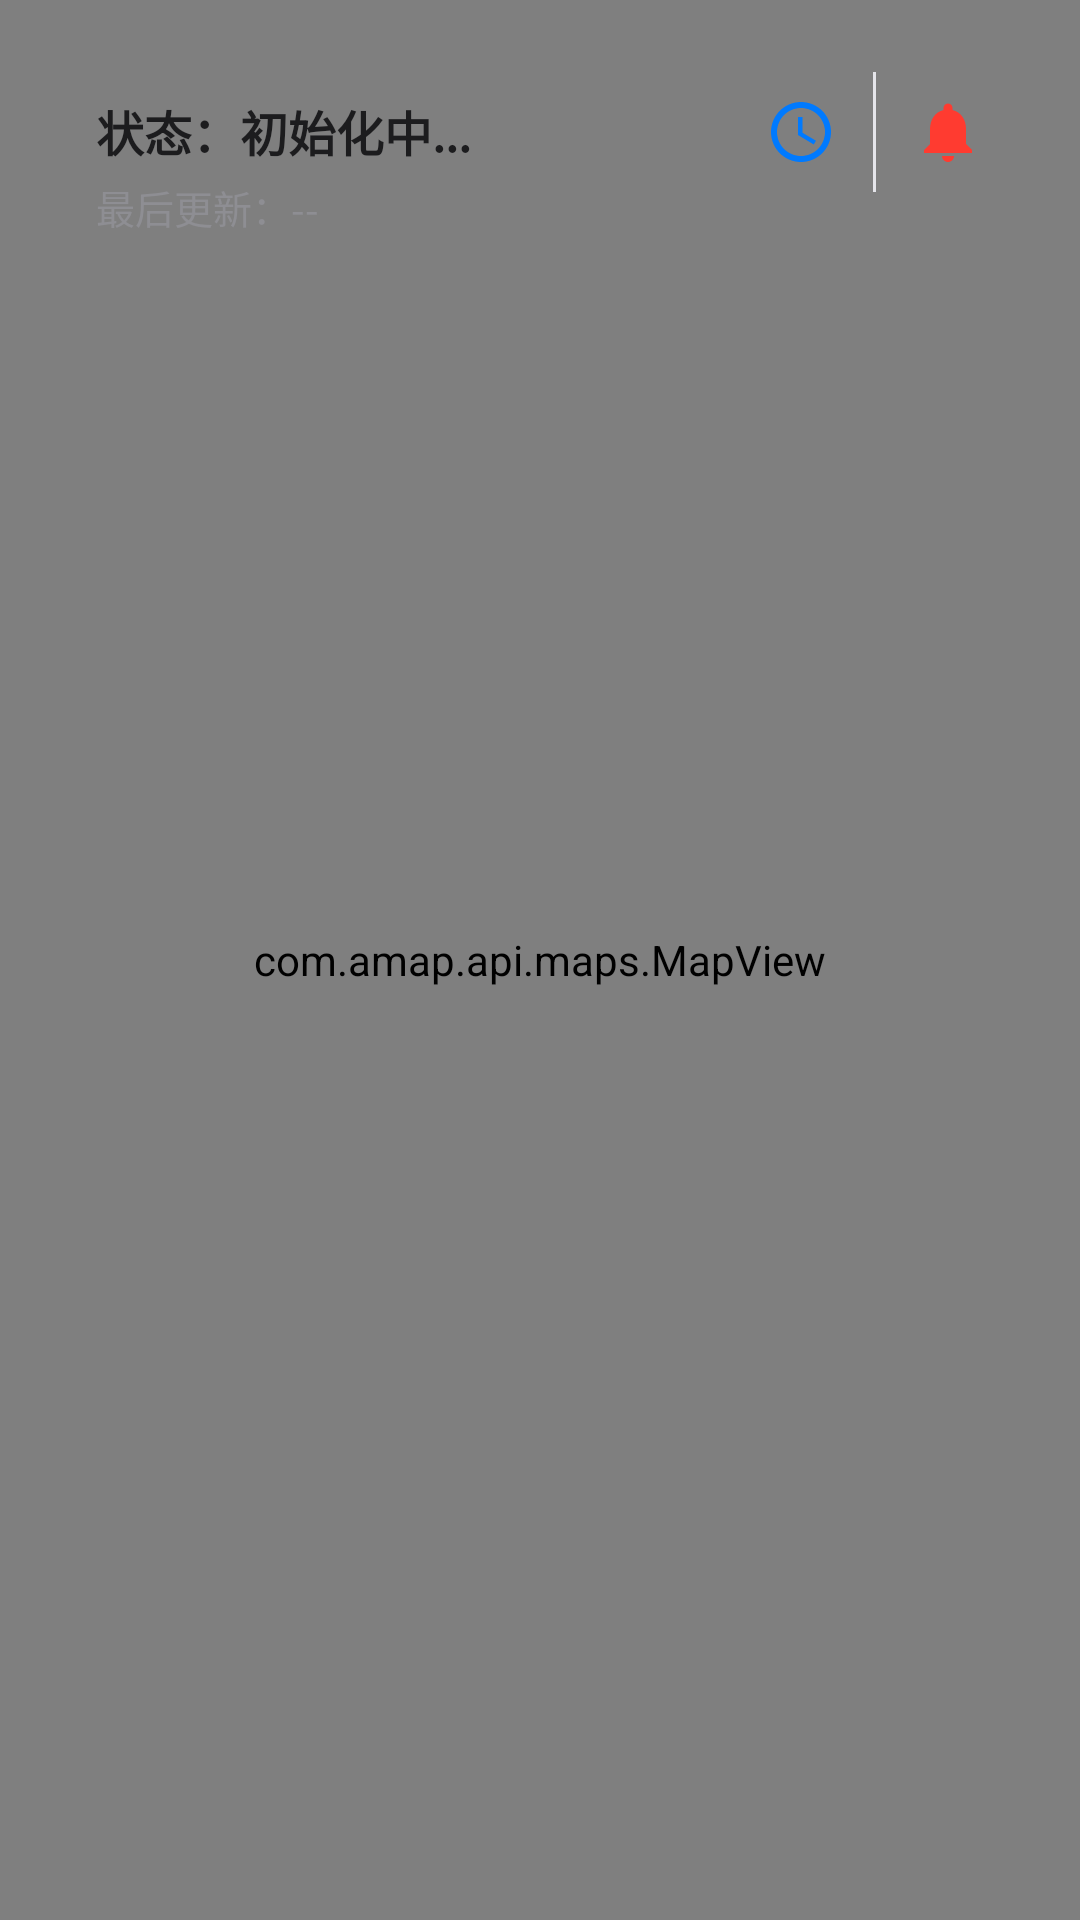

Named icons in this screenshot (1080 × 1920) and their centers, [x,y]:
alarm: [948,132]
history: [801,132]
